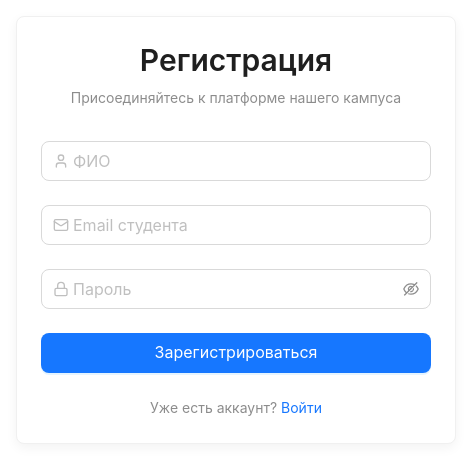
Scenario: Register › показывает ошибку при отправке пустой формы
This screenshot has width=473, height=461.
Step 1. Click the button "Зарегистрироваться" → (236, 353), box [41,333,431,373]
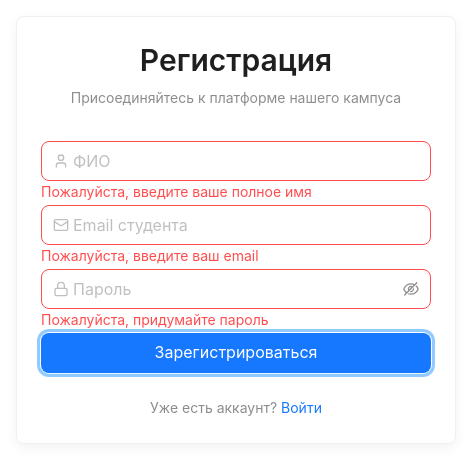
Expected: the text "Пожалуйста, введите ваше полное имя" is shown, [41,183,312,200]
